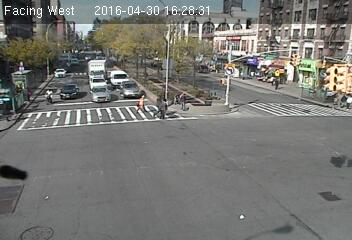neg: (82, 14, 105, 44), (117, 40, 132, 61), (144, 44, 159, 63), (240, 70, 253, 86), (24, 22, 36, 37), (143, 15, 153, 29), (260, 12, 270, 26), (52, 41, 62, 54), (68, 23, 77, 36), (180, 12, 189, 24), (240, 33, 249, 44), (110, 45, 118, 56), (195, 29, 203, 39), (219, 10, 227, 20), (98, 52, 104, 61)
pos: (156, 98, 172, 119), (135, 93, 148, 112), (178, 92, 191, 110), (272, 76, 284, 93), (43, 86, 55, 102), (21, 85, 33, 101), (331, 95, 341, 108), (344, 93, 351, 110)
